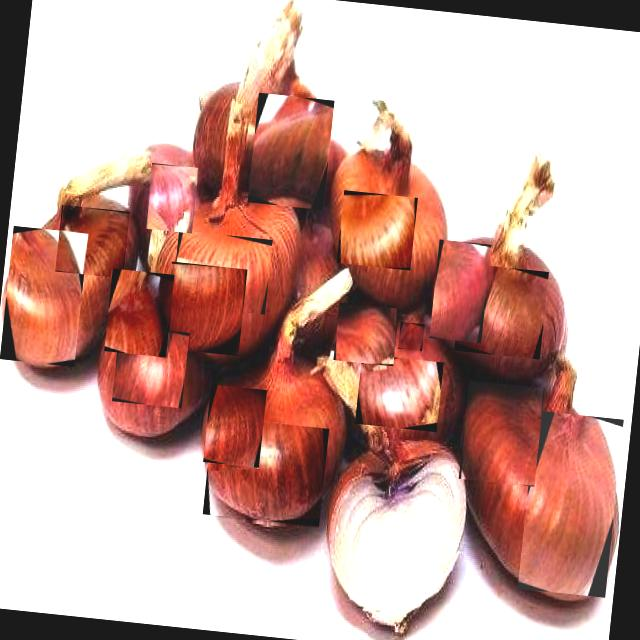healthy: (517, 410, 623, 597), (202, 416, 328, 528), (0, 225, 88, 366), (248, 92, 336, 210), (458, 380, 544, 486), (454, 263, 548, 359), (171, 230, 272, 314), (162, 262, 247, 356), (354, 354, 444, 432), (336, 190, 417, 270), (111, 325, 189, 408), (429, 239, 491, 343), (104, 268, 174, 357), (54, 204, 130, 278), (202, 384, 266, 470), (332, 303, 398, 367), (144, 162, 198, 234), (398, 322, 424, 351)
